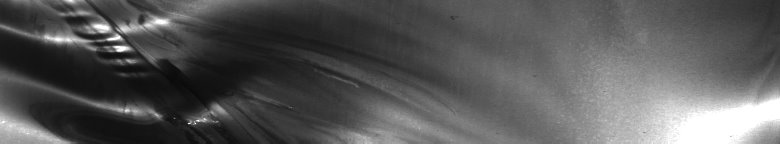ke: (4, 4, 349, 136)
